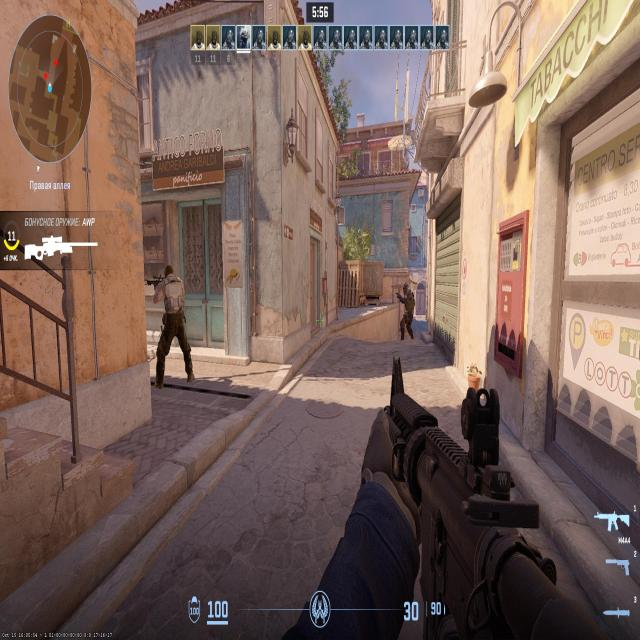CT: (405, 287, 418, 336)
CT_heat: (407, 288, 412, 294)
T: (161, 270, 184, 381)
T_heat: (168, 267, 175, 282)
